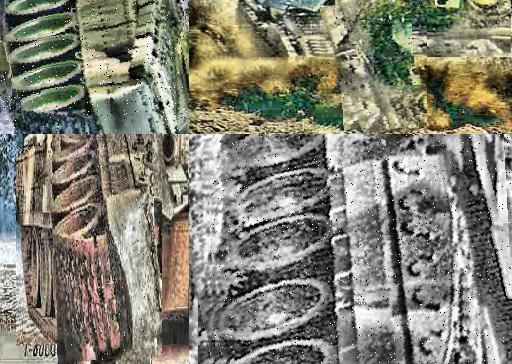tanks: (213, 135, 512, 364), (45, 135, 163, 362), (1, 1, 190, 135), (322, 1, 427, 132)
